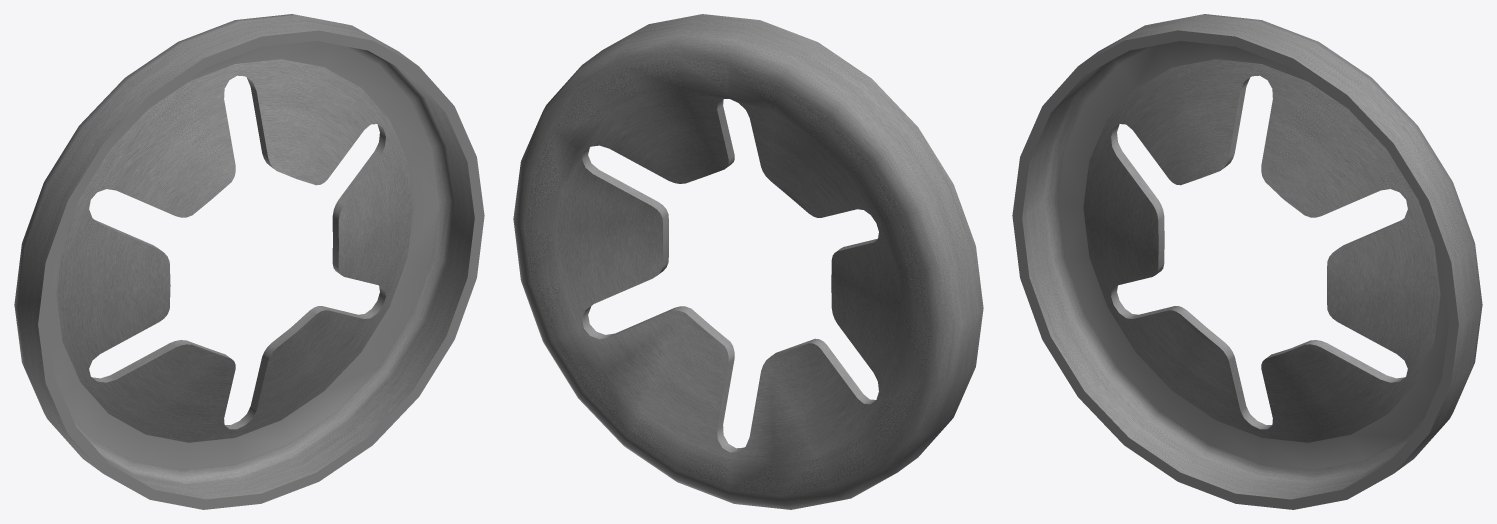
File: Disco.gltf
The picture shows the model from 3 angles, left to right: view 1: azimuth 30°, elevation 25°; view 2: azimuth 150°, elevation 25°; view 3: azimuth 330°, elevation 25°; orthographic projection.
Parts seen in each view (by area): view 1: Sólido1; view 2: Sólido1; view 3: Sólido1.
Part boxes in pixels (x1,y1,x2,y2): Sólido1: (14,14,484,509); Sólido1: (513,14,983,509); Sólido1: (1012,14,1482,509).
Size of the model in its own units: 0.9352 by 0.9352 by 0.1156.
1 material, 1 textured.
